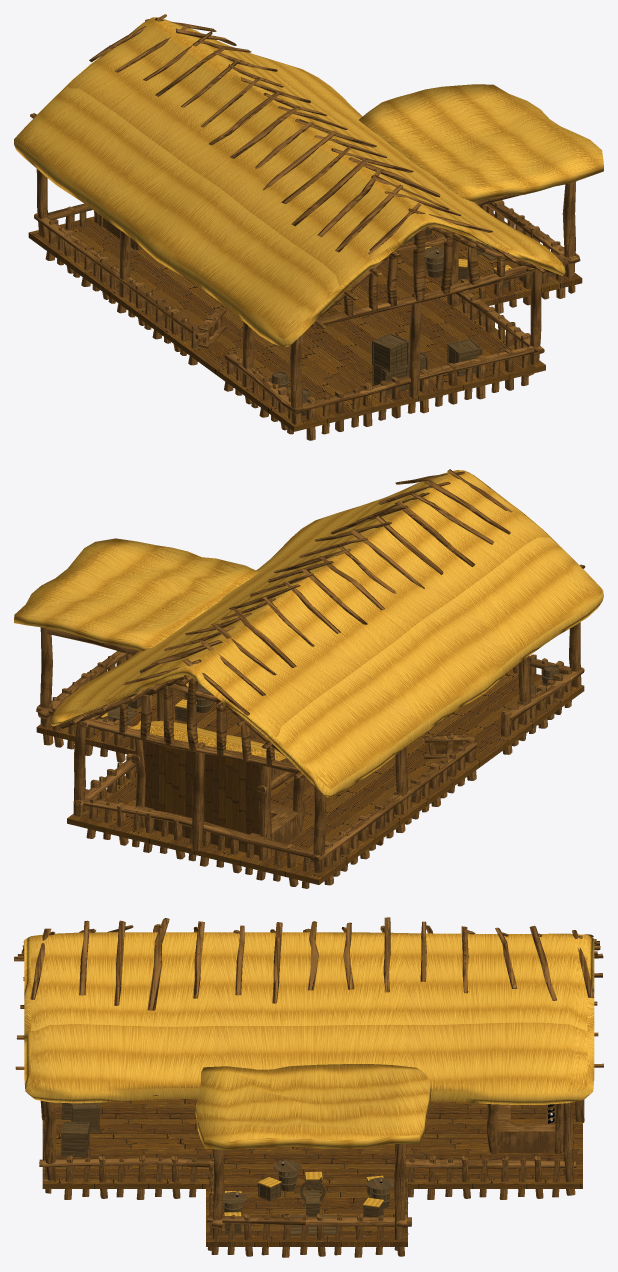
Rendered from Shack.glb.
The picture shows the model from 3 angles, top to bottom: view 1: azimuth 30°, elevation 25°; view 2: azimuth 150°, elevation 25°; view 3: azimuth 270°, elevation 25°; orthographic projection.
Parts seen in each view (by area): view 1: Shack; view 2: Shack; view 3: Shack.
Part boxes in pixels (x1,y1,x2,y2): Shack: (14, 14, 603, 440); Shack: (14, 469, 603, 888); Shack: (14, 917, 603, 1257).
Size of what is drawn, in the model's own units: 21.65 by 10.62 by 25.89.
60 materials, 11 textured.
